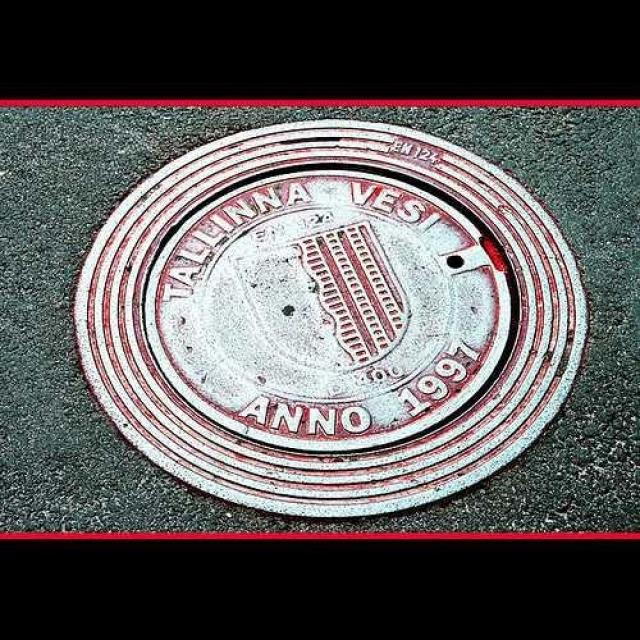manhole: (74, 120, 587, 517)
